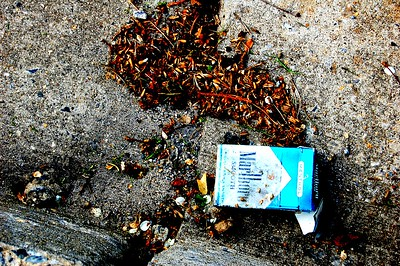cigarette: (212, 142, 318, 213)
